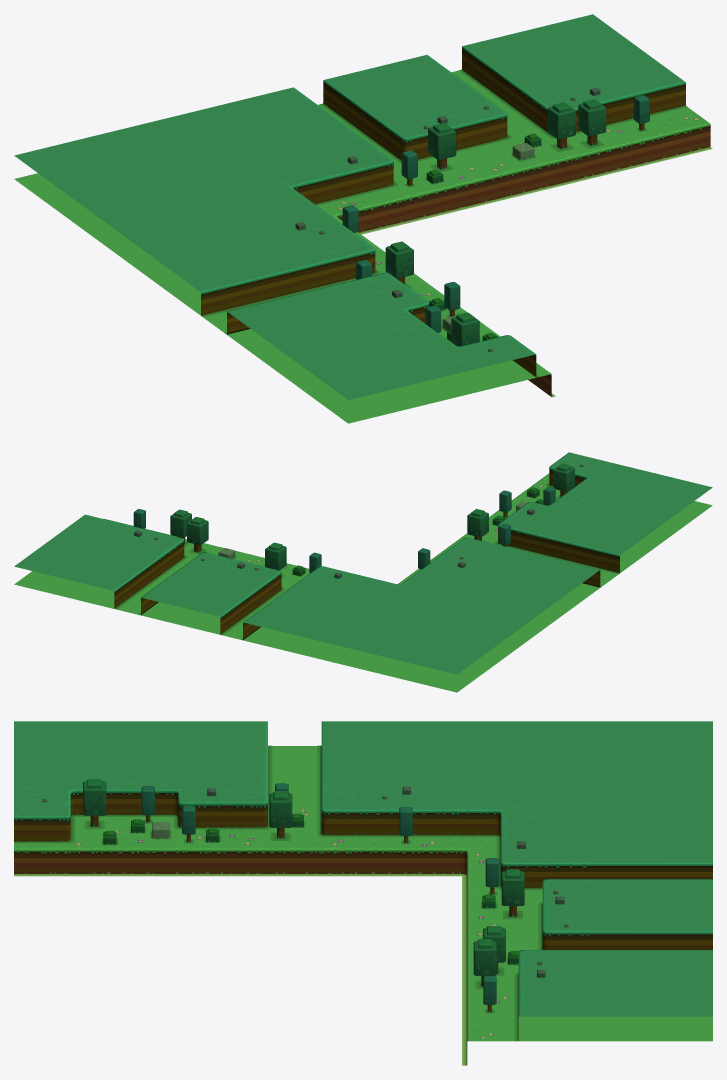
File: C_grass1_out_RD.fbx
3 views of the same model, one above another, from view 1: azimuth 30°, elevation 25°; view 2: azimuth 150°, elevation 25°; view 3: azimuth 270°, elevation 25° (orthographic). The views are drawn at different scales.
Visible parts, largest first — view 1: C_grass1_out_RD; view 2: C_grass1_out_RD; view 3: C_grass1_out_RD.
Boxes of the visible parts, <box> form: C_grass1_out_RD: <box>14,14,712,423</box>; C_grass1_out_RD: <box>14,452,712,692</box>; C_grass1_out_RD: <box>14,721,712,1065</box>.
Size of the model in its own units: 117 by 12.59 by 117.
